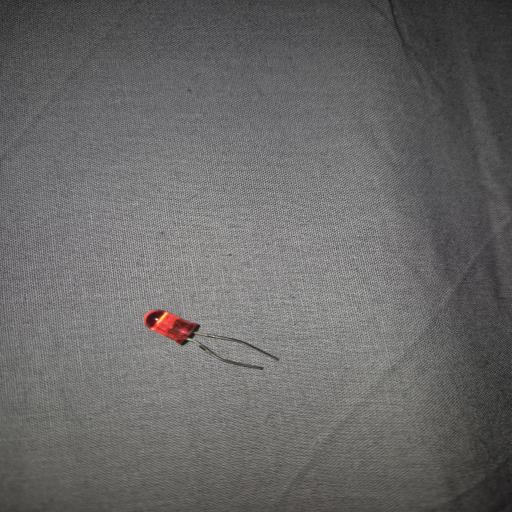led-diode: (143, 309, 281, 370)
